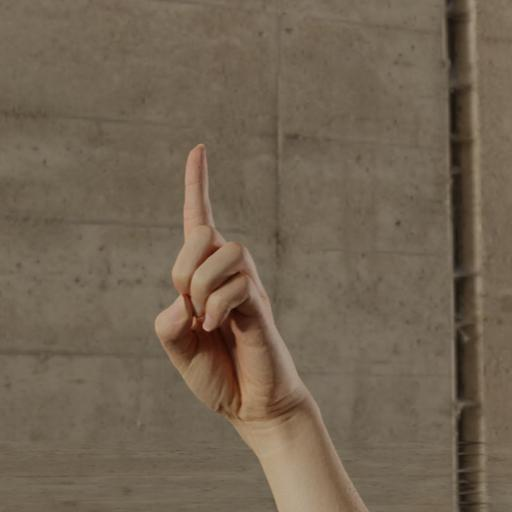D: (143, 140, 320, 433)
